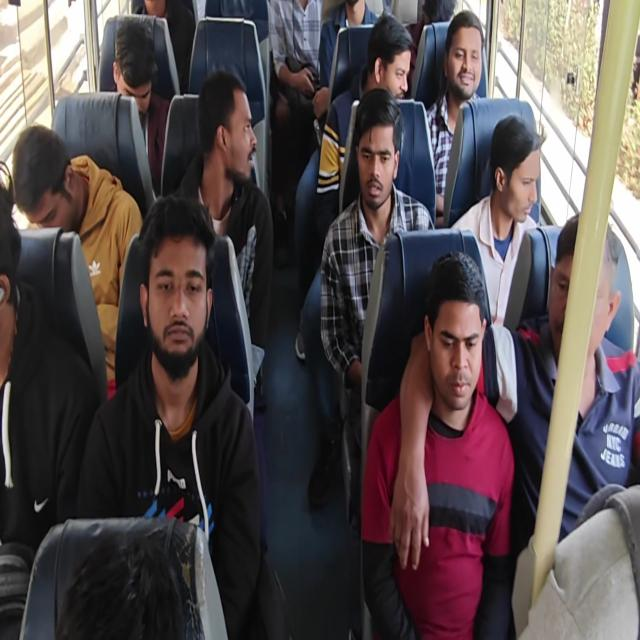person: (1, 1, 638, 638), (75, 193, 268, 638), (396, 212, 640, 560), (361, 250, 515, 638), (319, 87, 435, 507), (0, 178, 100, 637), (294, 11, 413, 361), (11, 123, 143, 400), (173, 69, 274, 409), (450, 114, 542, 331), (56, 530, 186, 638), (267, 0, 324, 225), (425, 10, 484, 223), (111, 20, 171, 197), (131, 0, 195, 95), (318, 0, 379, 90)
